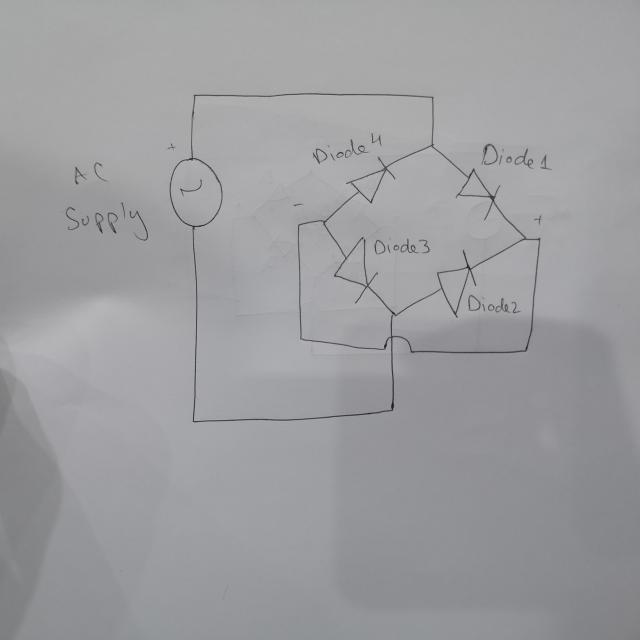crossover: (379, 333, 414, 355)
diode: (331, 234, 380, 305), (435, 248, 477, 319), (453, 166, 502, 221), (344, 155, 396, 204)
junction: (386, 306, 400, 319), (426, 140, 437, 152), (318, 216, 329, 228), (387, 402, 397, 415), (520, 344, 530, 356), (190, 90, 199, 101), (428, 92, 437, 101), (294, 219, 302, 229), (520, 233, 528, 243), (296, 334, 304, 343), (190, 416, 196, 426), (535, 235, 542, 242)
source: (164, 154, 226, 231)
text: (63, 201, 146, 240), (311, 133, 383, 166), (478, 142, 552, 171), (466, 291, 522, 314), (371, 235, 432, 256), (70, 162, 113, 188), (531, 211, 546, 225), (292, 198, 307, 210)
